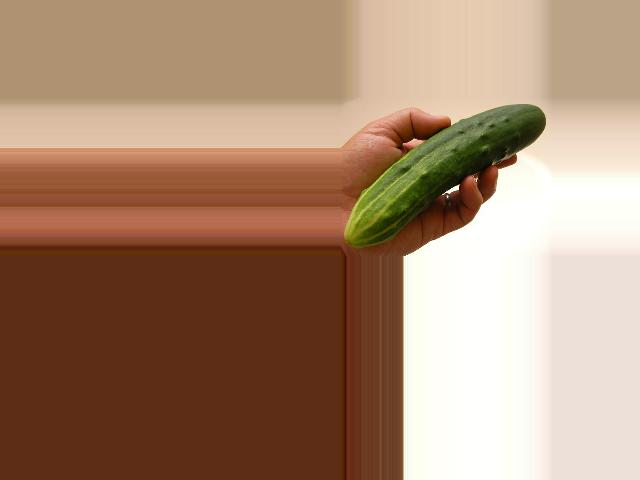cucumber: (345, 105, 546, 248)
